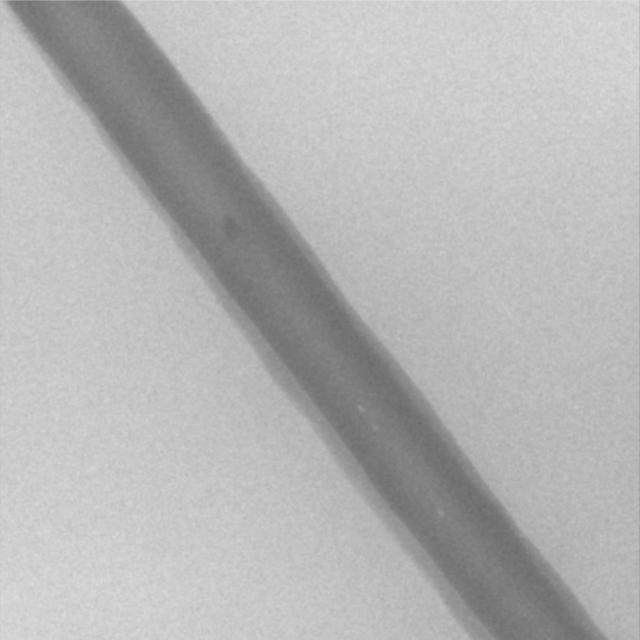air hole: (436, 507, 445, 518), (355, 404, 363, 413)
